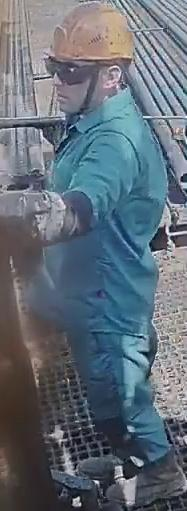gloves: (0, 187, 77, 246)
goggles: (42, 54, 99, 86)
helmet: (44, 0, 135, 64)
vest: (44, 89, 170, 338)
